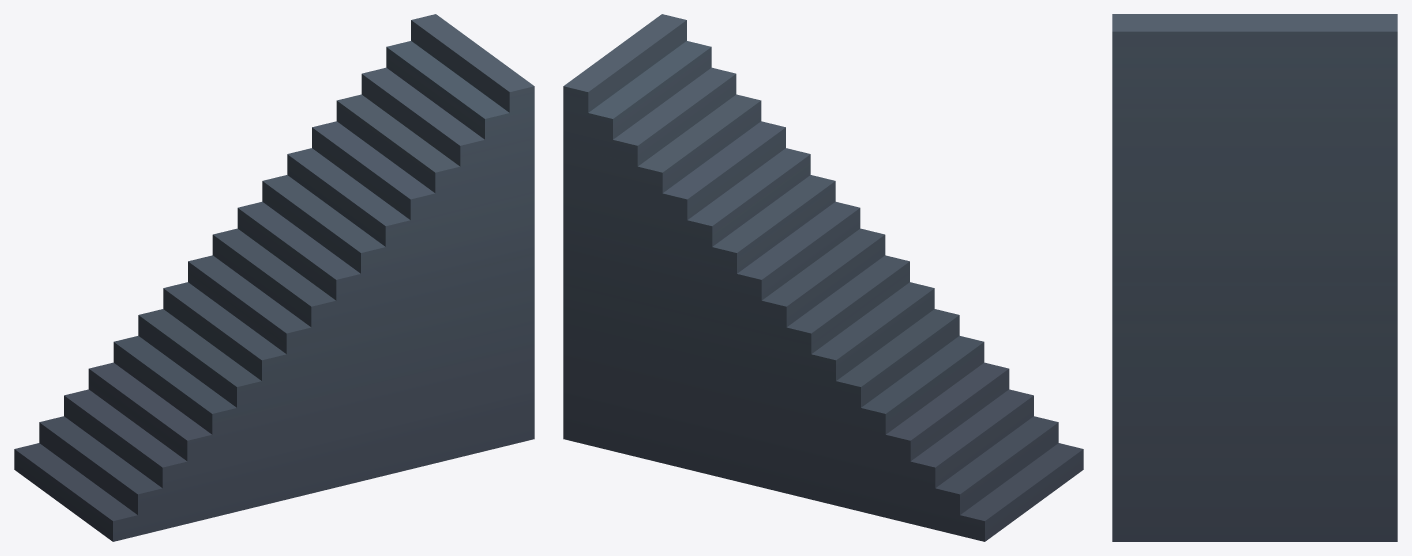
Rendered from Stairs_C_1_2.obj.
The picture shows the model from 3 angles, left to right: view 1: azimuth 30°, elevation 25°; view 2: azimuth 150°, elevation 25°; view 3: azimuth 270°, elevation 25°; orthographic projection. The views are drawn at different scales.
Parts seen in each view (by area): view 1: Stairs_C_1_2; view 2: Stairs_C_1_2; view 3: Stairs_C_1_2.
Boxes of the visible parts, x1,y1,x2,y2 form: Stairs_C_1_2: (14, 14, 534, 541); Stairs_C_1_2: (563, 14, 1083, 541); Stairs_C_1_2: (1112, 14, 1397, 541).
Bounding box in the file's own units: 3.4 × 2.72 × 1.38.
